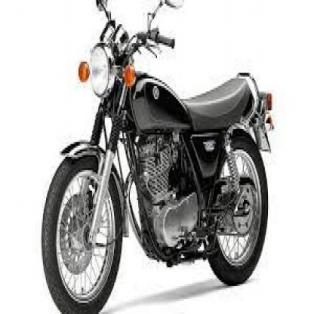Motocicleta: (34, 2, 277, 313)
